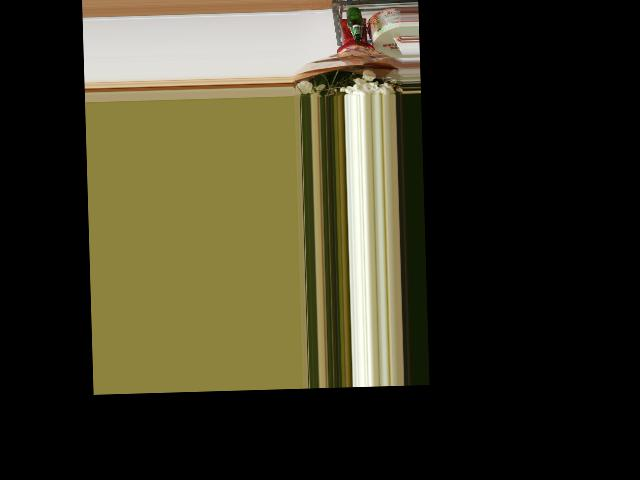beer: (346, 6, 365, 41)
